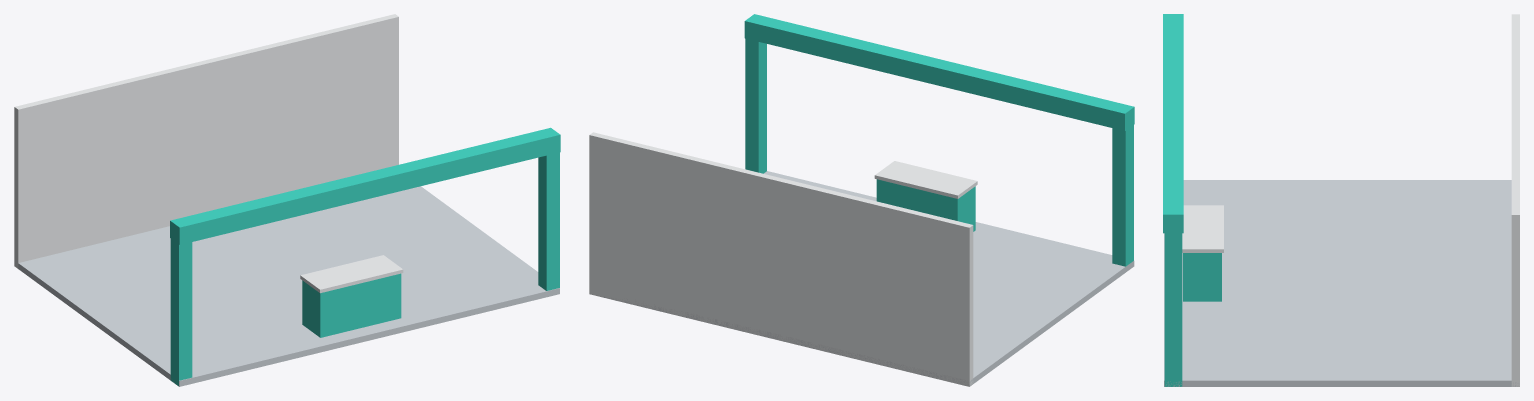
3 views of the same model, side by side, from view 1: azimuth 30°, elevation 25°; view 2: azimuth 150°, elevation 25°; view 3: azimuth 270°, elevation 25° (orthographic). The views are drawn at different scales.
Parts seen in each view (by area): view 1: Exhibition Booth Concept; view 2: Exhibition Booth Concept; view 3: Exhibition Booth Concept.
Boxes of the visible parts, x1=… form: Exhibition Booth Concept: x1=14, y1=14, x2=560, y2=386; Exhibition Booth Concept: x1=589, y1=14, x2=1134, y2=386; Exhibition Booth Concept: x1=1163, y1=14, x2=1519, y2=386.
Bounding box in the file's own units: 8 × 3.2 × 6.02.
